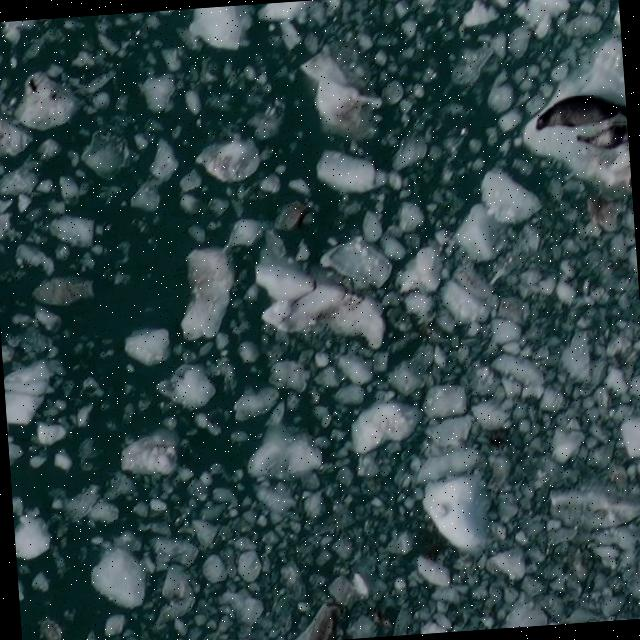seal: (532, 94, 627, 131), (578, 122, 627, 149)
